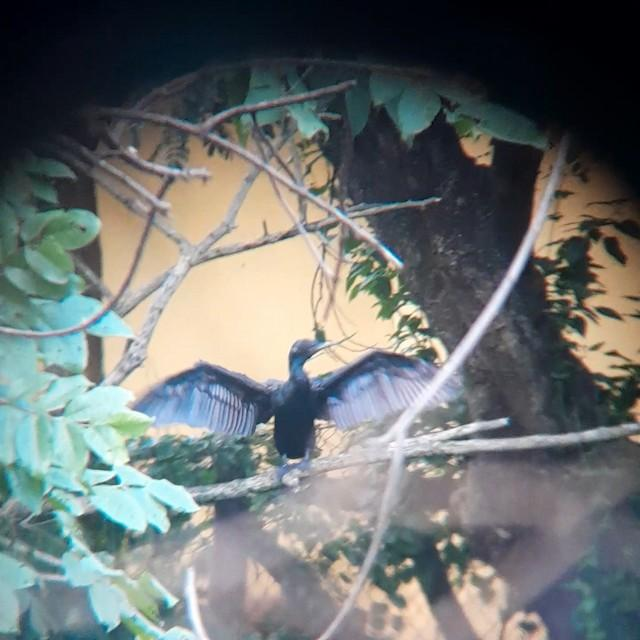cormorant: (136, 331, 456, 467)
